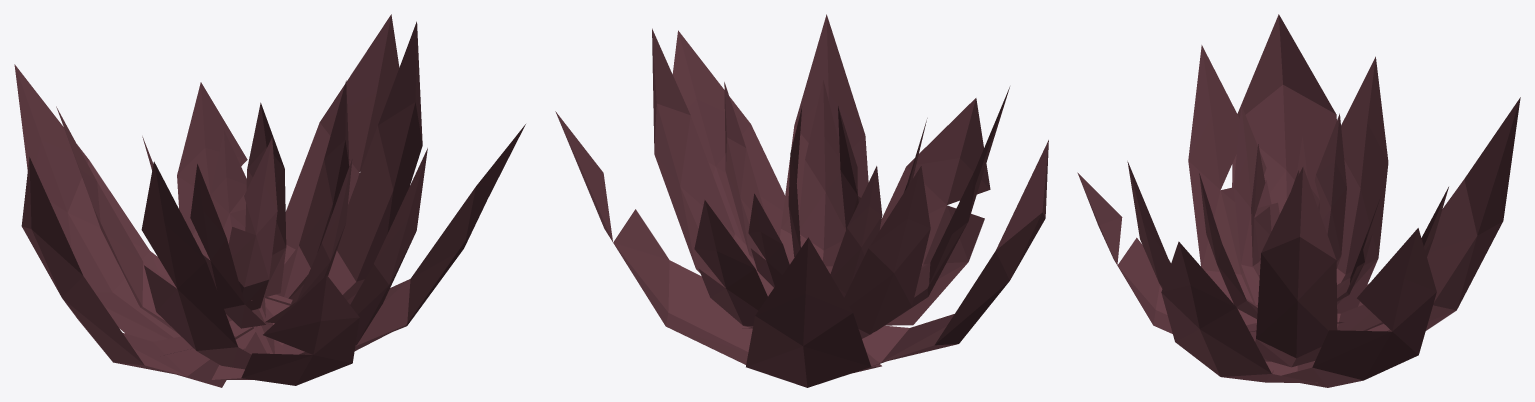
The model's file is plant-bush-small.fbx.
The picture shows the model from 3 angles, left to right: view 1: azimuth 30°, elevation 25°; view 2: azimuth 150°, elevation 25°; view 3: azimuth 270°, elevation 25°; orthographic projection. The views are drawn at different scales.
Parts seen in each view (by area): view 1: plant-bush-small; view 2: plant-bush-small; view 3: plant-bush-small.
Boxes of the visible parts, bbox=[...] form: plant-bush-small: bbox=[14, 14, 525, 387]; plant-bush-small: bbox=[555, 14, 1048, 387]; plant-bush-small: bbox=[1077, 14, 1520, 387].
Bounding box in the file's own units: 1.48 × 0.9636 × 1.41.
